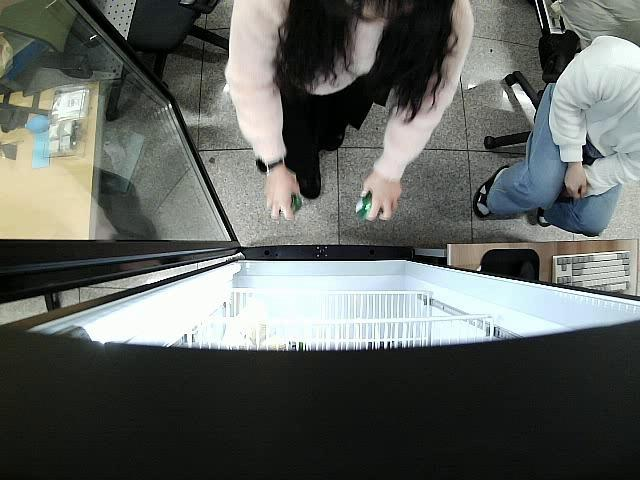12_chilsungCider: (354, 190, 381, 224), (276, 191, 304, 218)
